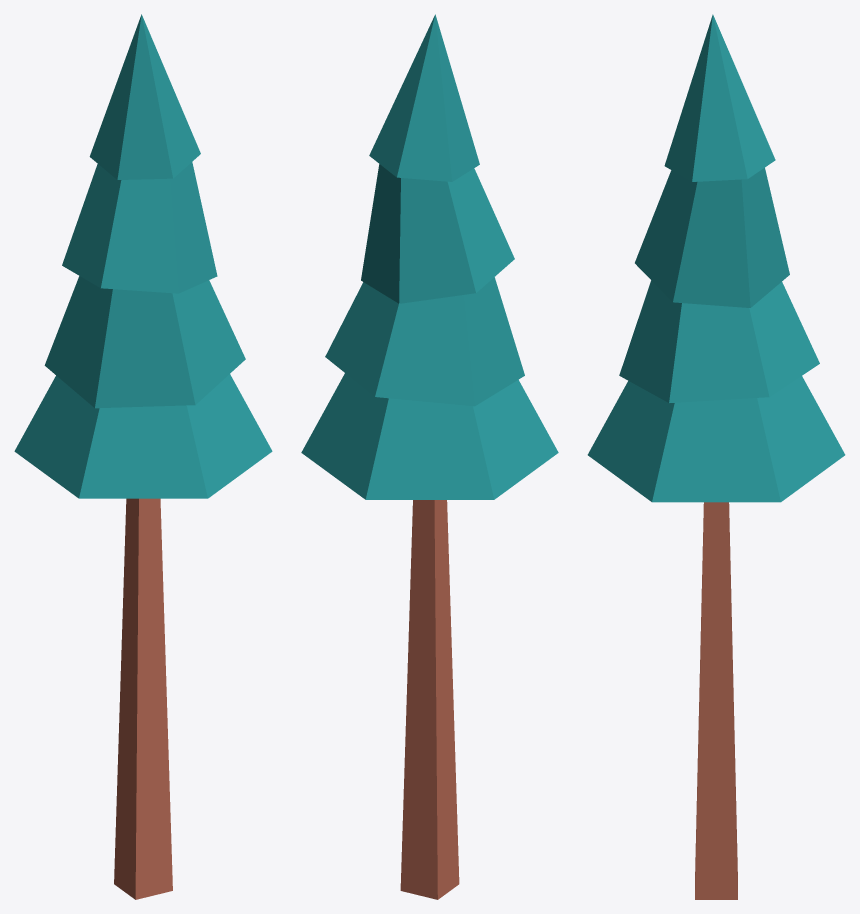
Rendered from tree_pineTallD.dae.
3 views of the same model, side by side, from view 1: azimuth 30°, elevation 25°; view 2: azimuth 150°, elevation 25°; view 3: azimuth 270°, elevation 25° (orthographic).
Visible parts, largest first — view 1: tree_pineTallD; view 2: tree_pineTallD; view 3: tree_pineTallD.
Boxes of the visible parts, x1,y1,x2,y2 form: tree_pineTallD: (14, 14, 272, 899); tree_pineTallD: (301, 14, 558, 899); tree_pineTallD: (587, 14, 845, 899).
Bounding box in the file's own units: 0.4804 × 2.08 × 0.5547.
